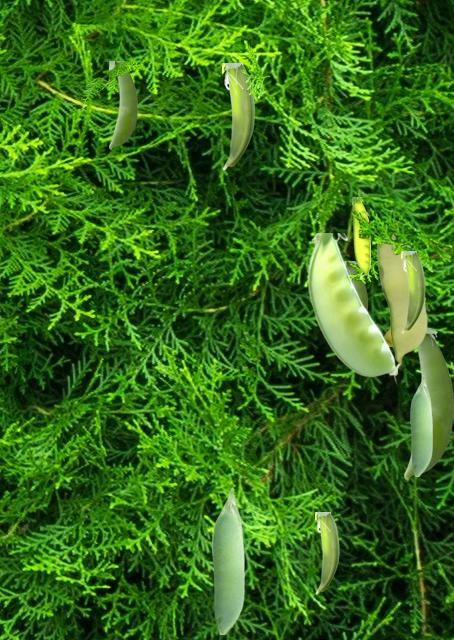pea: (307, 233, 396, 384), (404, 328, 452, 479), (377, 245, 426, 374), (212, 488, 243, 633), (222, 63, 255, 169), (109, 61, 136, 148), (410, 375, 431, 475), (315, 512, 339, 593), (401, 251, 425, 332), (352, 197, 369, 278), (345, 261, 366, 307), (384, 329, 391, 345)
